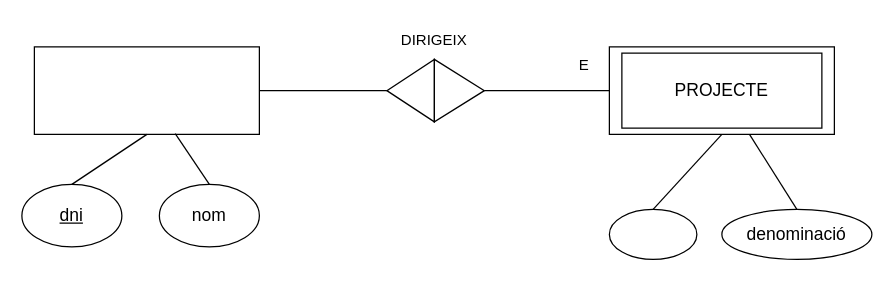
Image size: 894x281. Some labels were removed from this diagram. Here are the shapes that lost their labels. From the top down, the centre of each, then its label:
point 146,90: DIRECTOR
point 652,233: codi
